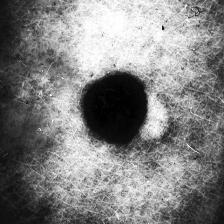Benign Marking or Mole: (84, 74, 147, 144)
